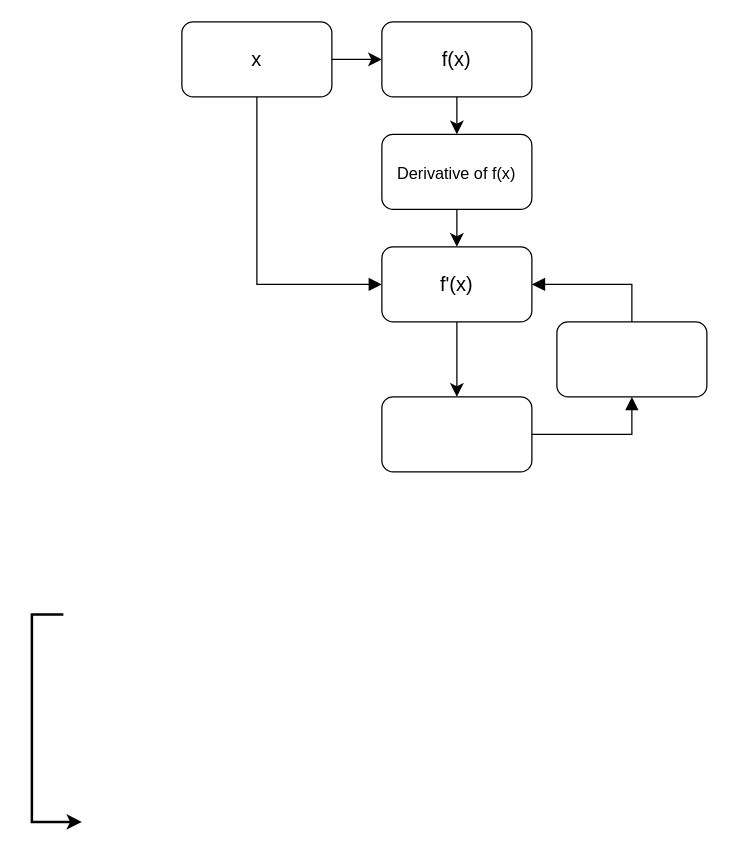
This 729x855 diagram has some shape labels left out. The box of each missing label's shape, as (x1, y1, x2, y2) in pixels:
Answer: (381, 396, 532, 472)
Answer = x: (556, 321, 707, 397)
